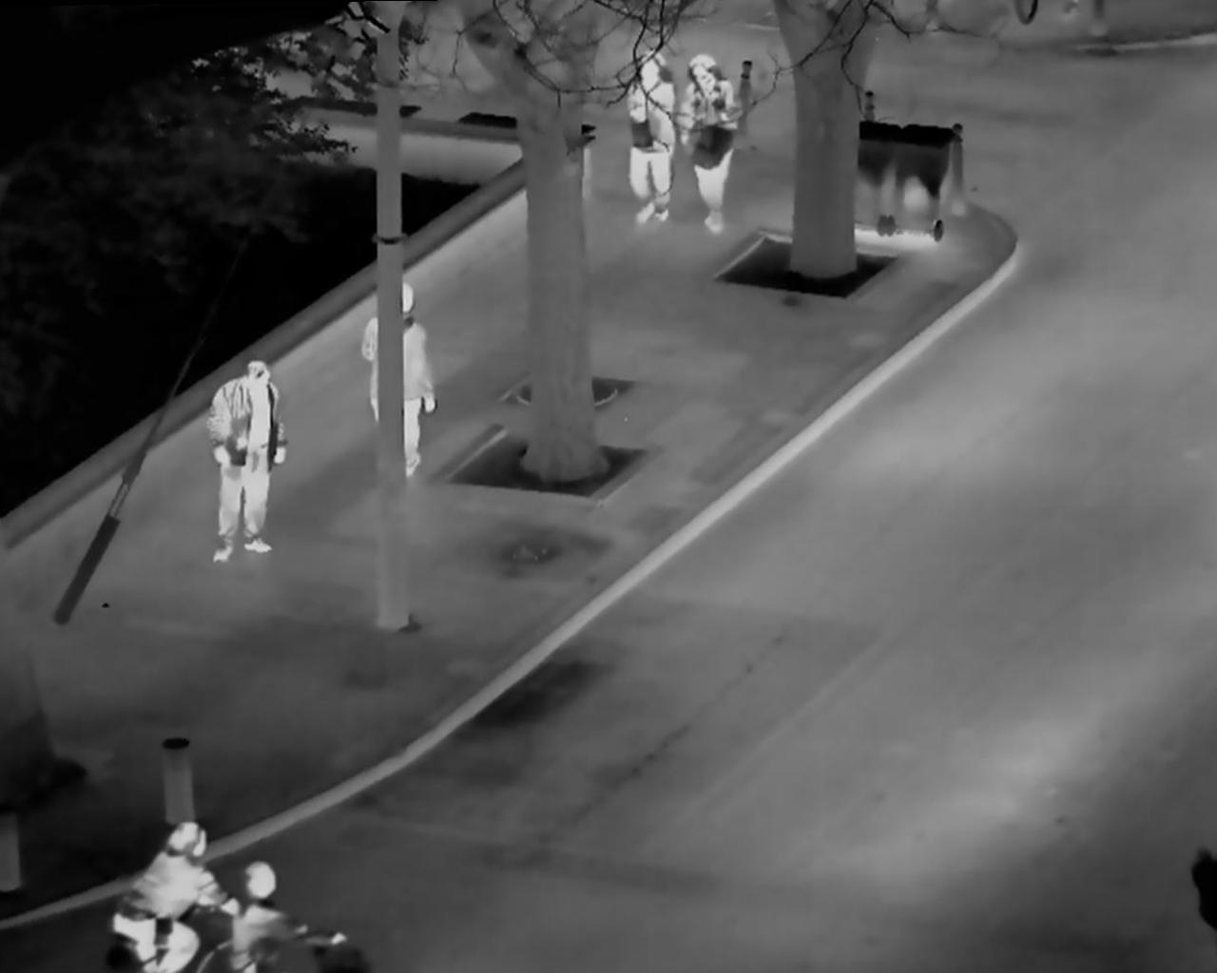person: (194, 344, 294, 567), (102, 805, 234, 973), (347, 268, 448, 484), (677, 44, 746, 239), (614, 37, 677, 243), (222, 853, 318, 973)
